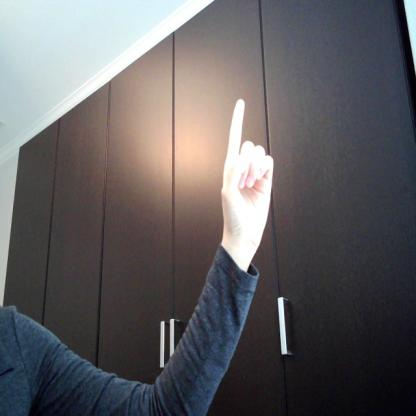one: (216, 98, 275, 259)
